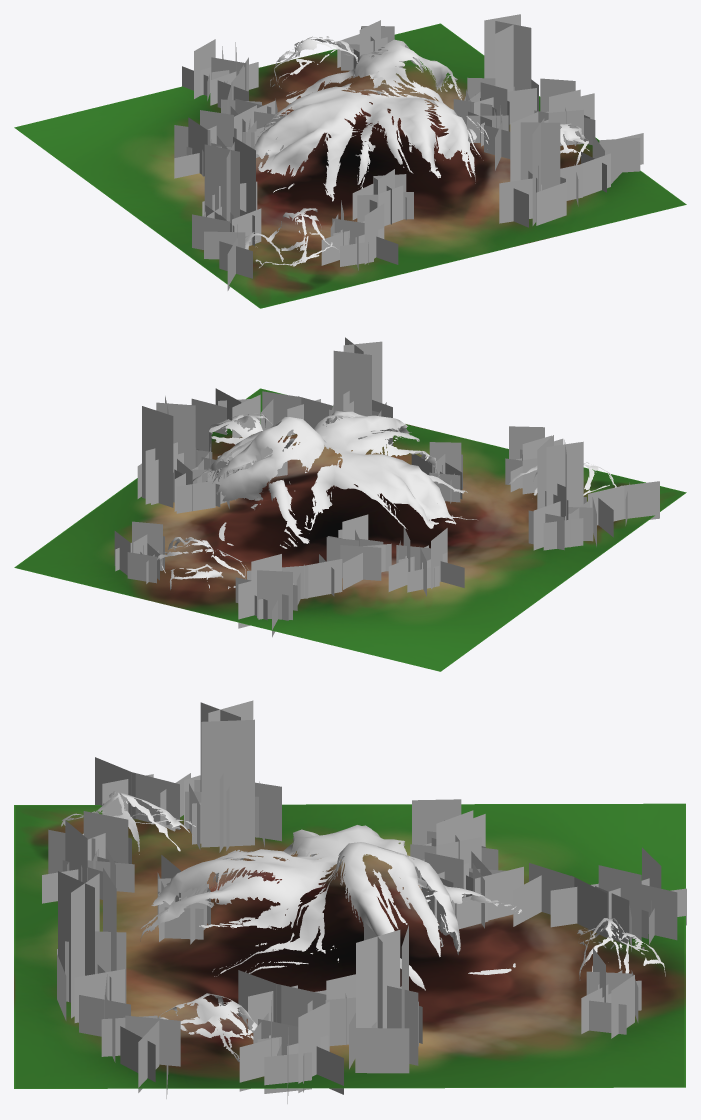
Rendered from zalejametall.fbx.
3 renders of one model, top to bottom at view 1: azimuth 30°, elevation 25°; view 2: azimuth 150°, elevation 25°; view 3: azimuth 270°, elevation 25°, orthographic. The views are drawn at different scales.
Parts seen in each view (by area): view 1: metall; view 2: metall; view 3: metall.
Boxes of the visible parts, bbox=[...] form: metall: bbox=[14, 14, 686, 308]; metall: bbox=[14, 337, 686, 671]; metall: bbox=[14, 700, 686, 1103].
Size of the model in its own units: 20.31 by 4.96 by 19.64.
